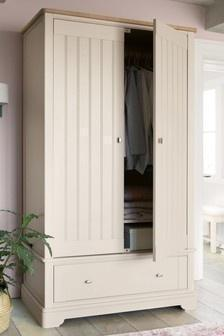Armario: (15, 5, 196, 313)
Matera: (0, 207, 50, 332)
